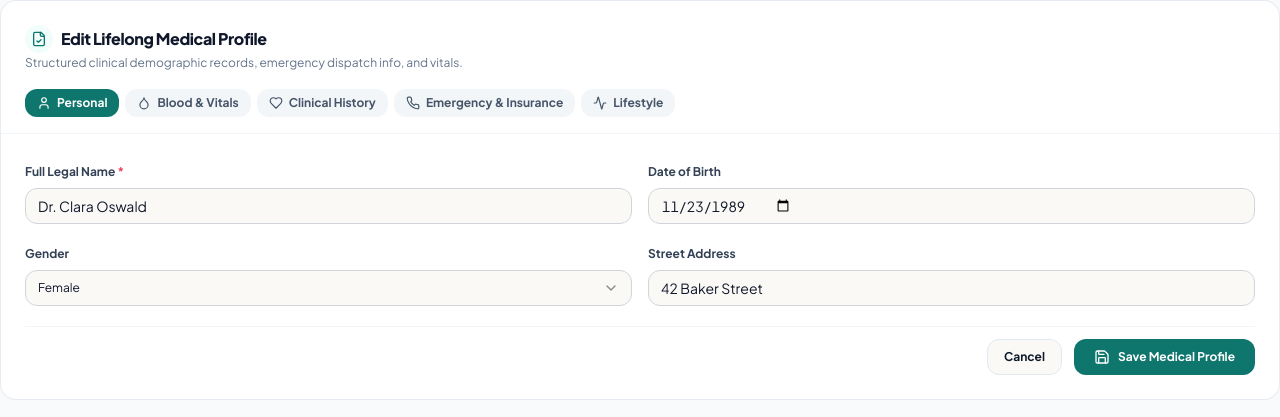
Test case: Comprehensive Patient Profile UX/UI Refinement Suite › 3. Form Validation, Repeatable Contacts & Edit Workflow › cancels edit mode and restores initial data when Cancel is clicked
Replace the text in the field labelled "Full Legal Name *" with "Modified Name". click: (328, 206)
box: [25,188,632,224]
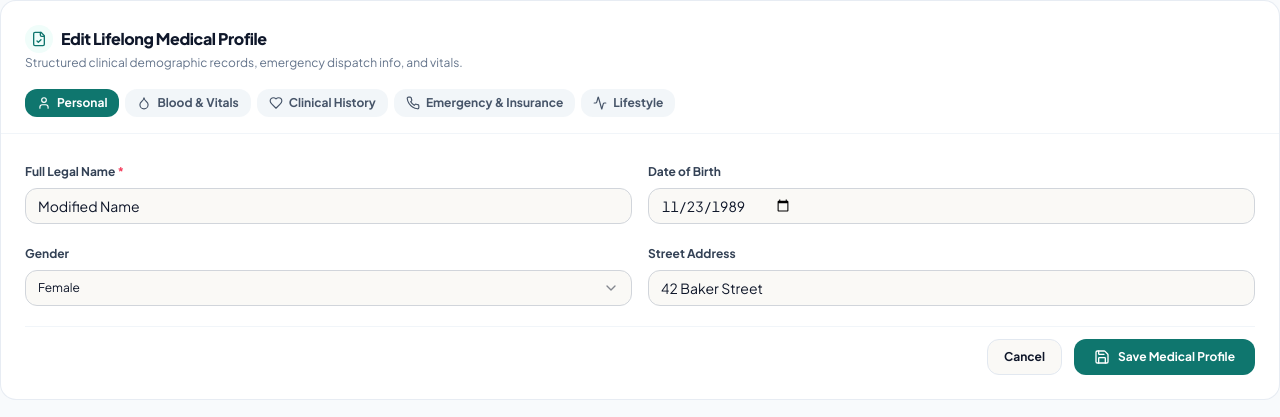
Click the button "Cancel". click: (1024, 357)
box: [987,339,1062,375]
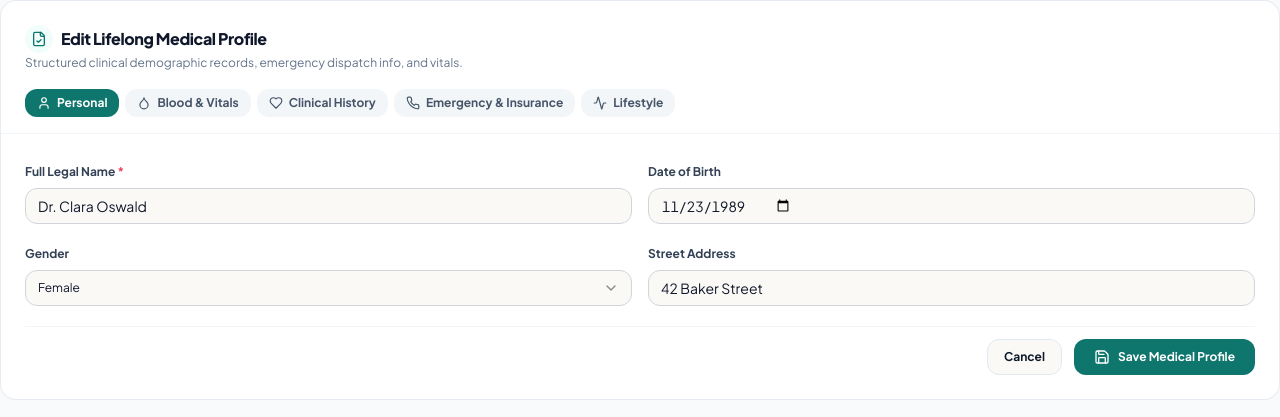
Check: the field labelled "Full Legal Name *" holds "Dr. Clara Oswald", box [25,188,632,224]
